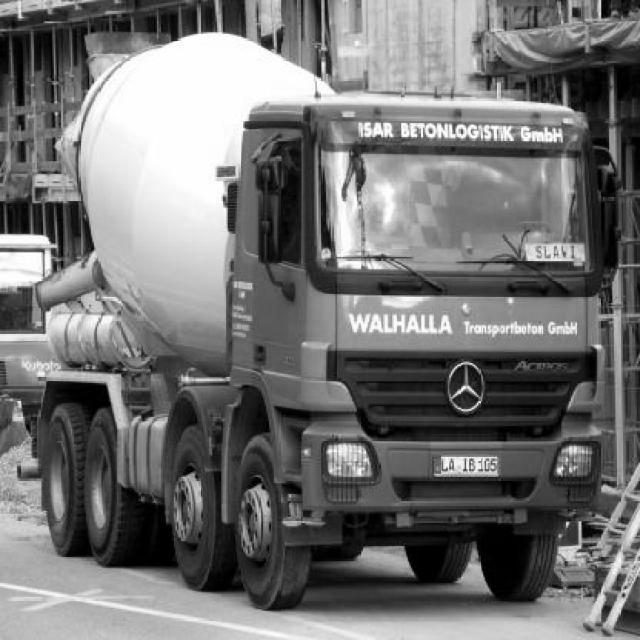Concrete Mixer: (16, 30, 611, 614)
